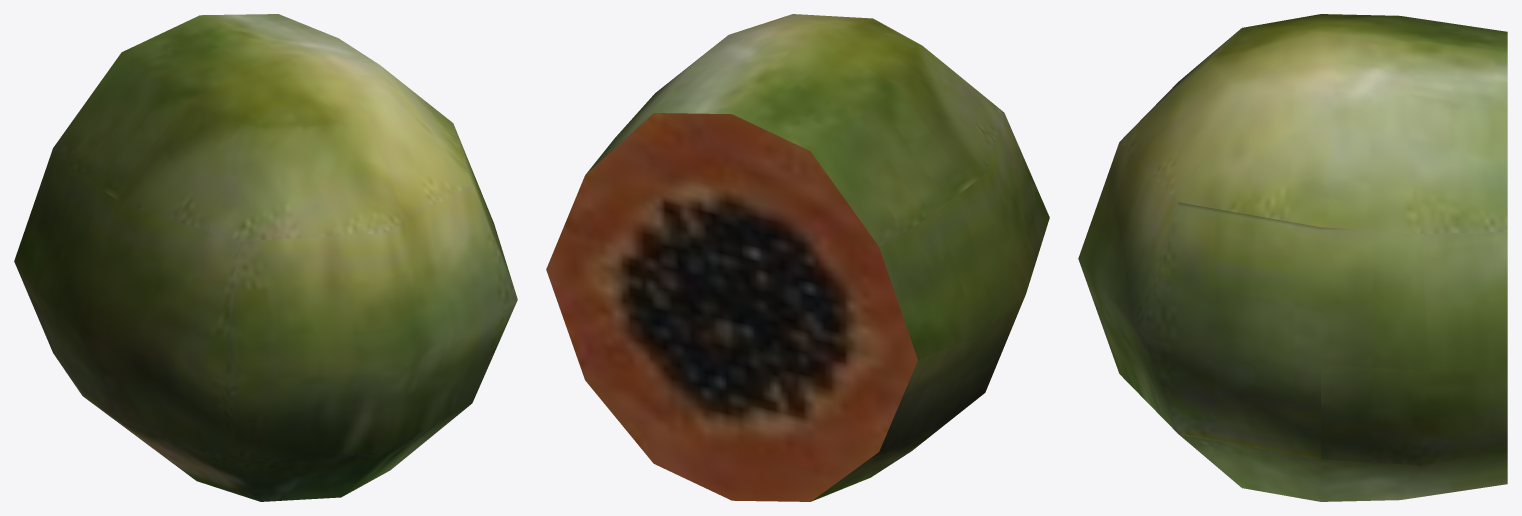
File: Papaya_02.glb
The picture shows the model from 3 angles, left to right: view 1: azimuth 30°, elevation 25°; view 2: azimuth 150°, elevation 25°; view 3: azimuth 270°, elevation 25°; orthographic projection. The views are drawn at different scales.
Visible parts, largest first — view 1: Papaya_02; view 2: Papaya_02; view 3: Papaya_02.
Part boxes in pixels (x1,y1,x2,y2): Papaya_02: (14, 14, 517, 501); Papaya_02: (546, 14, 1049, 501); Papaya_02: (1078, 14, 1507, 501).
Size of the model in its own units: 0.1864 by 0.1843 by 0.1591.
1 material, 1 textured.
